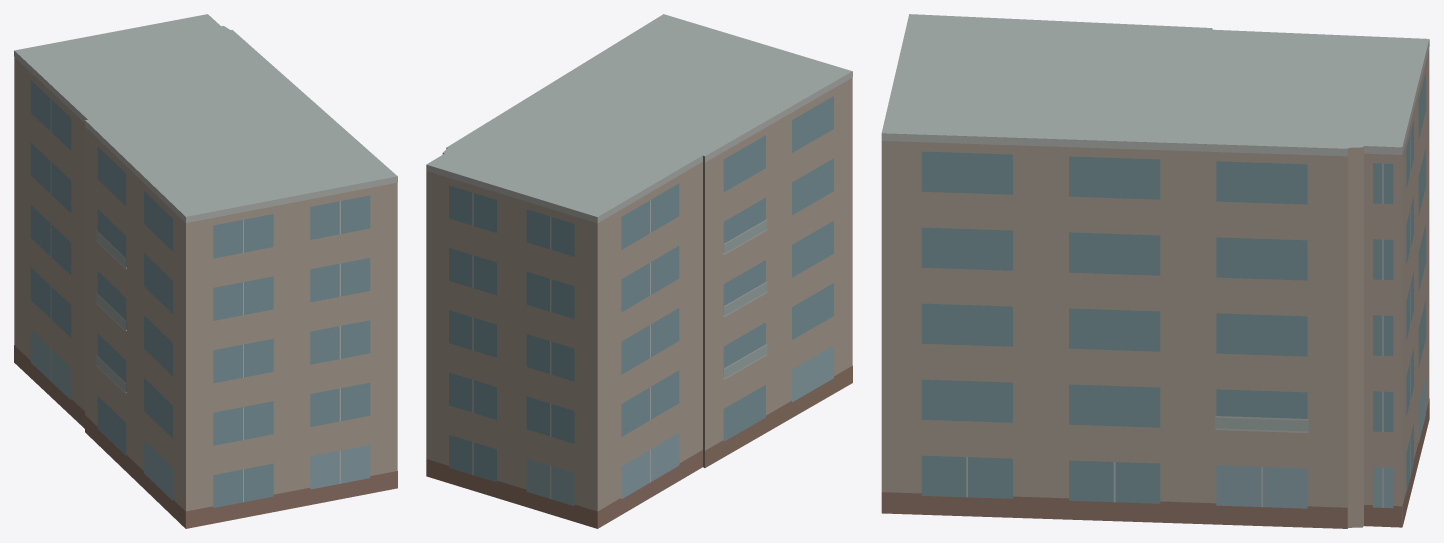
The model's file is survey-upis-33045246.glb.
The picture shows the model from 3 angles, left to right: view 1: azimuth 30°, elevation 25°; view 2: azimuth 150°, elevation 25°; view 3: azimuth 270°, elevation 25°; orthographic projection. The views are drawn at different scales.
Visible parts, largest first — view 1: survey-upis-33045246.tmp; view 2: survey-upis-33045246.tmp; view 3: survey-upis-33045246.tmp.
Boxes of the visible parts, <box> form: survey-upis-33045246.tmp: <box>14,14,397,528</box>; survey-upis-33045246.tmp: <box>426,14,852,528</box>; survey-upis-33045246.tmp: <box>881,14,1429,528</box>.
Bounding box in the file's own units: 9.29 × 12.2 × 15.95.
